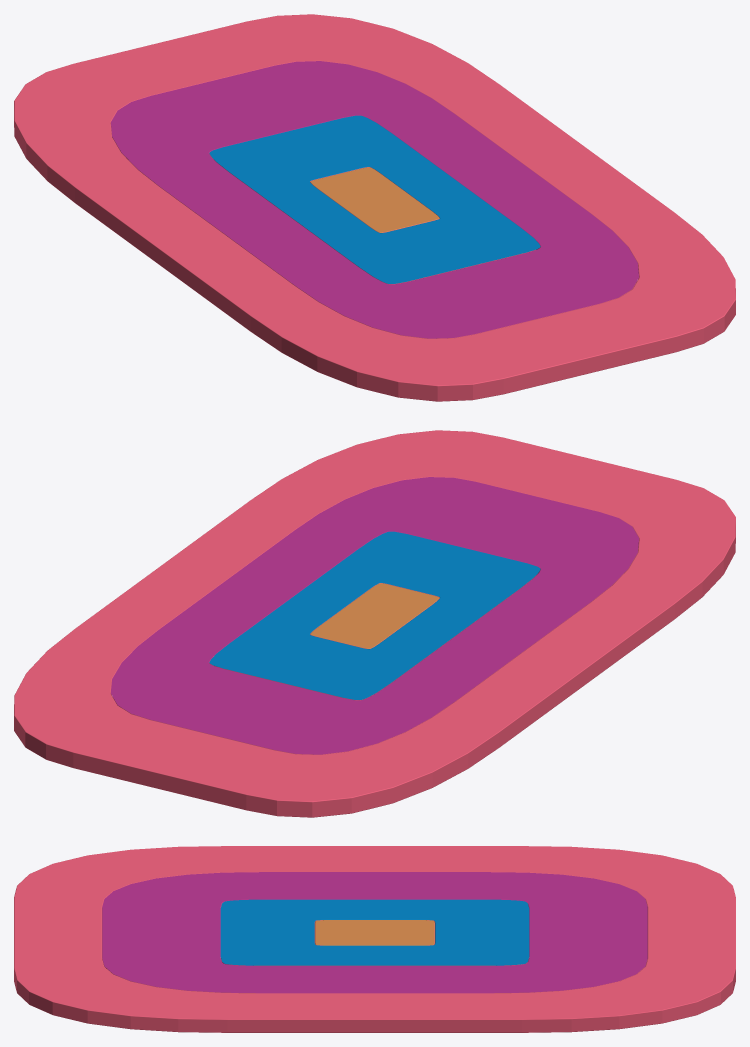
File: floor.fbx
The picture shows the model from 3 angles, top to bottom: view 1: azimuth 30°, elevation 25°; view 2: azimuth 150°, elevation 25°; view 3: azimuth 270°, elevation 25°; orthographic projection. The views are drawn at different scales.
Parts seen in each view (by area): view 1: Plane.004; view 2: Plane.004; view 3: Plane.004.
Boxes of the visible parts, x1,y1,x2,y2 form: Plane.004: (14, 14, 735, 401); Plane.004: (14, 430, 735, 817); Plane.004: (14, 846, 735, 1032).
Size of the model in its own units: 318 by 11.62 by 558.
